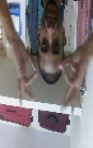hand: (58, 43, 89, 113), (8, 42, 40, 107)
